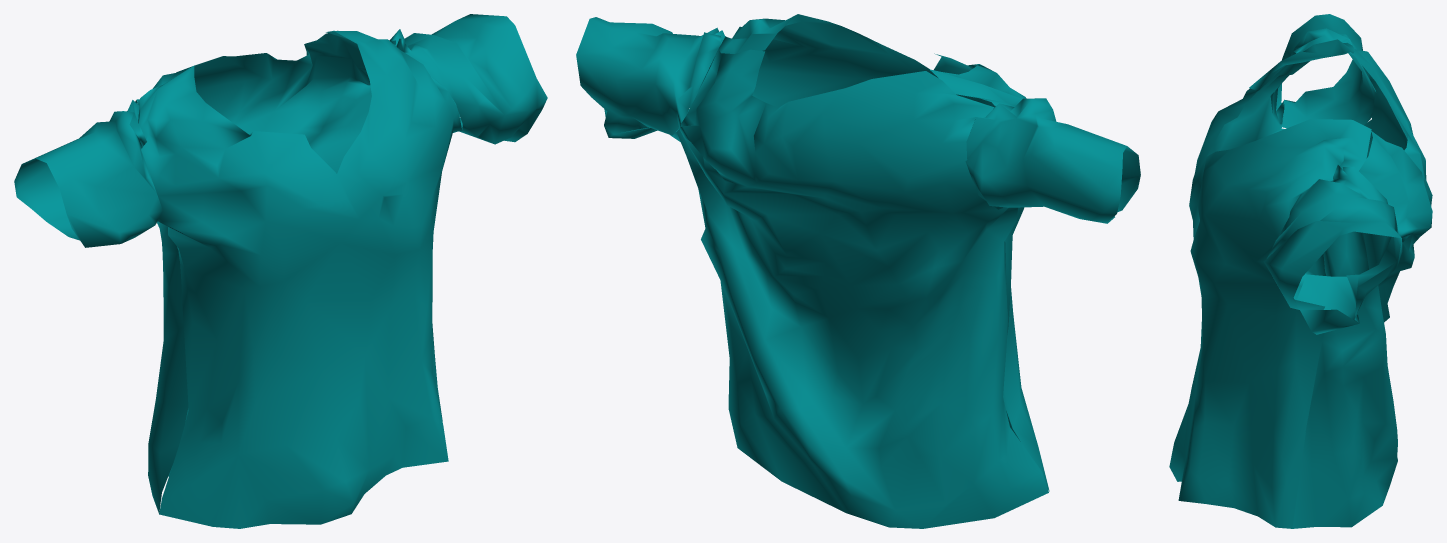
The model's file is current_tops.glb.
The picture shows the model from 3 angles, left to right: view 1: azimuth 30°, elevation 25°; view 2: azimuth 150°, elevation 25°; view 3: azimuth 270°, elevation 25°; orthographic projection. The views are drawn at different scales.
Parts seen in each view (by area): view 1: 2; view 2: 2; view 3: 2.
Part boxes in pixels (x1=…): 2: x1=14, y1=14, x2=547, y2=528; 2: x1=576, y1=14, x2=1140, y2=528; 2: x1=1169, y1=14, x2=1432, y2=528.
Size of the model in its own units: 5.38 by 4.26 by 2.47.
1 material, 1 textured.
